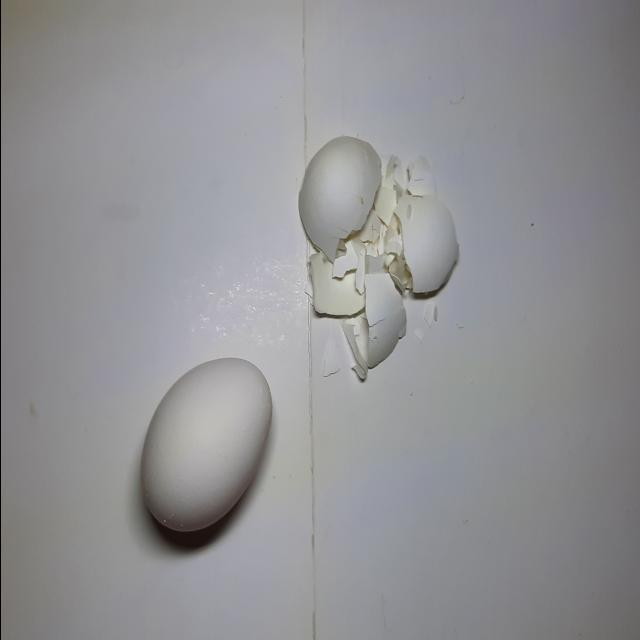egg shell: (132, 342, 276, 542), (294, 129, 382, 264), (387, 191, 458, 301), (346, 265, 416, 375), (306, 242, 371, 317), (390, 152, 432, 195)
